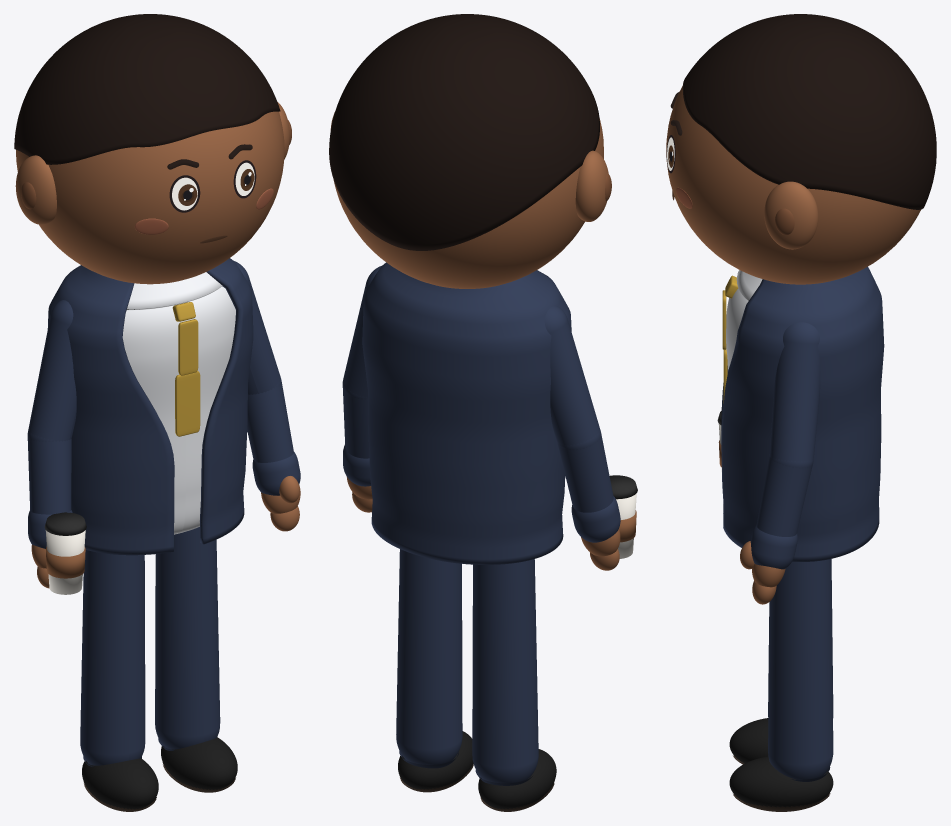
File: man_pak.glb
The picture shows the model from 3 angles, left to right: view 1: azimuth 30°, elevation 25°; view 2: azimuth 150°, elevation 25°; view 3: azimuth 270°, elevation 25°; orthographic projection.
Visible parts, largest first — view 1: man_pak_jas, man_pak_haar, man_pak_hoofd, man_pak_been_R, man_pak_been_L, man_pak_romp, man_pak_bovenarm_R, man_pak_onderarm_R, man_pak_schoen_R, man_pak_schoen_L, man_pak_onderarm_L, man_pak_kraag (+10 smaller); view 2: man_pak_jas, man_pak_haar, man_pak_been_R, man_pak_been_L, man_pak_hoofd, man_pak_bovenarm_R, man_pak_onderarm_R, man_pak_schoen_R, man_pak_schoen_L, man_pak_oor_R, man_pak_onderarm_L, man_pak_bovenarm_L (+4 smaller); view 3: man_pak_haar, man_pak_jas, man_pak_hoofd, man_pak_been_L, man_pak_bovenarm_L, man_pak_schoen_L, man_pak_onderarm_L, man_pak_oor_L, man_pak_manchet_L, man_pak_schoen_R, man_pak_romp, man_pak_hand_L.
Boxes of the visible parts, box(x1,y1,x2,y2) form: man_pak_jas: box(47, 258, 253, 555); man_pak_haar: box(14, 14, 280, 164); man_pak_hoofd: box(16, 111, 284, 284); man_pak_been_R: box(80, 550, 145, 765); man_pak_been_L: box(155, 527, 220, 749); man_pak_romp: box(122, 286, 235, 534); man_pak_bovenarm_R: box(28, 300, 76, 441); man_pak_onderarm_R: box(27, 435, 71, 514); man_pak_schoen_R: box(82, 758, 158, 809); man_pak_schoen_L: box(161, 737, 237, 789); man_pak_onderarm_L: box(247, 382, 293, 462); man_pak_kraag: box(127, 272, 222, 310); man_pak_jas: box(362, 262, 571, 564); man_pak_haar: box(329, 14, 599, 250); man_pak_been_R: box(472, 559, 538, 783); man_pak_been_L: box(396, 549, 462, 764); man_pak_hoofd: box(333, 119, 603, 288); man_pak_bovenarm_R: box(544, 305, 600, 449); man_pak_onderarm_R: box(557, 434, 613, 512); man_pak_schoen_R: box(478, 749, 556, 809); man_pak_schoen_L: box(398, 731, 473, 789); man_pak_oor_R: box(575, 150, 608, 221); man_pak_onderarm_L: box(342, 386, 369, 458); man_pak_bovenarm_L: box(343, 266, 381, 398); man_pak_haar: box(682, 14, 936, 209); man_pak_jas: box(721, 266, 884, 561); man_pak_hoofd: box(666, 85, 920, 284); man_pak_been_L: box(768, 559, 833, 779); man_pak_bovenarm_L: box(769, 322, 820, 468); man_pak_schoen_L: box(729, 756, 833, 807); man_pak_onderarm_L: box(756, 457, 812, 536); man_pak_oor_L: box(764, 181, 818, 249); man_pak_manchet_L: box(750, 525, 797, 569); man_pak_schoen_R: box(729, 718, 768, 763); man_pak_romp: box(726, 288, 748, 369); man_pak_hand_L: box(752, 564, 785, 587).
Size of the model in its own units: 0.6685 by 1.82 by 0.5854.
